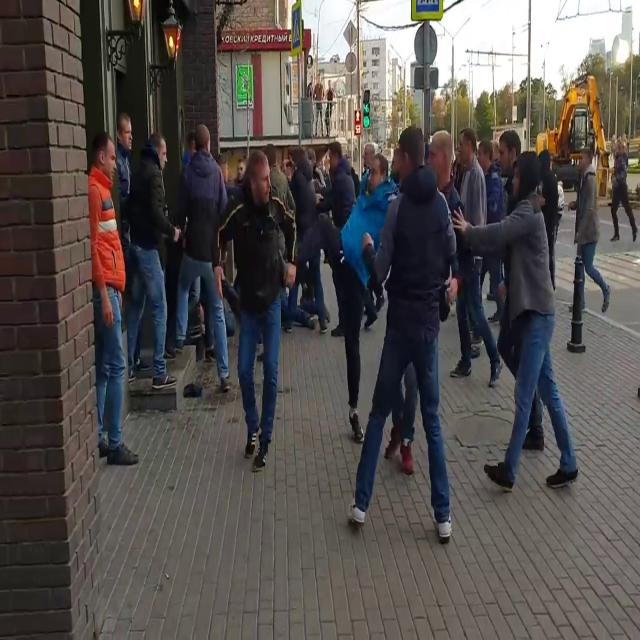non_violence: (96, 125, 130, 462)
violence: (215, 146, 397, 424)
